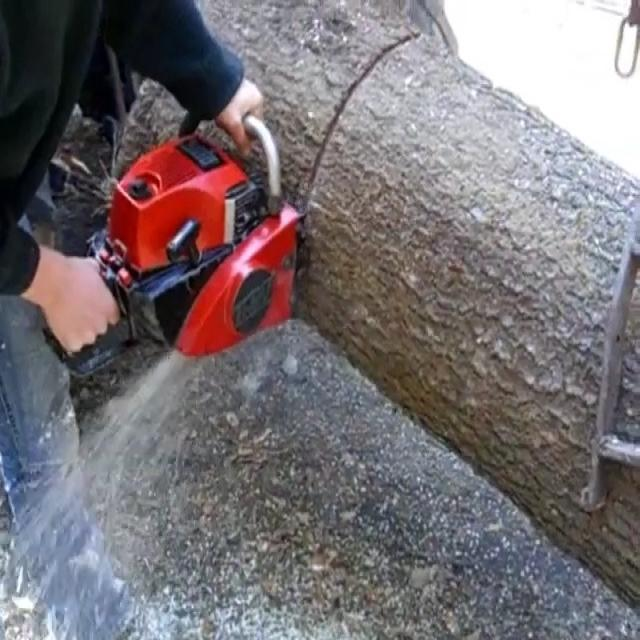Chainsaw: (22, 101, 320, 402)
